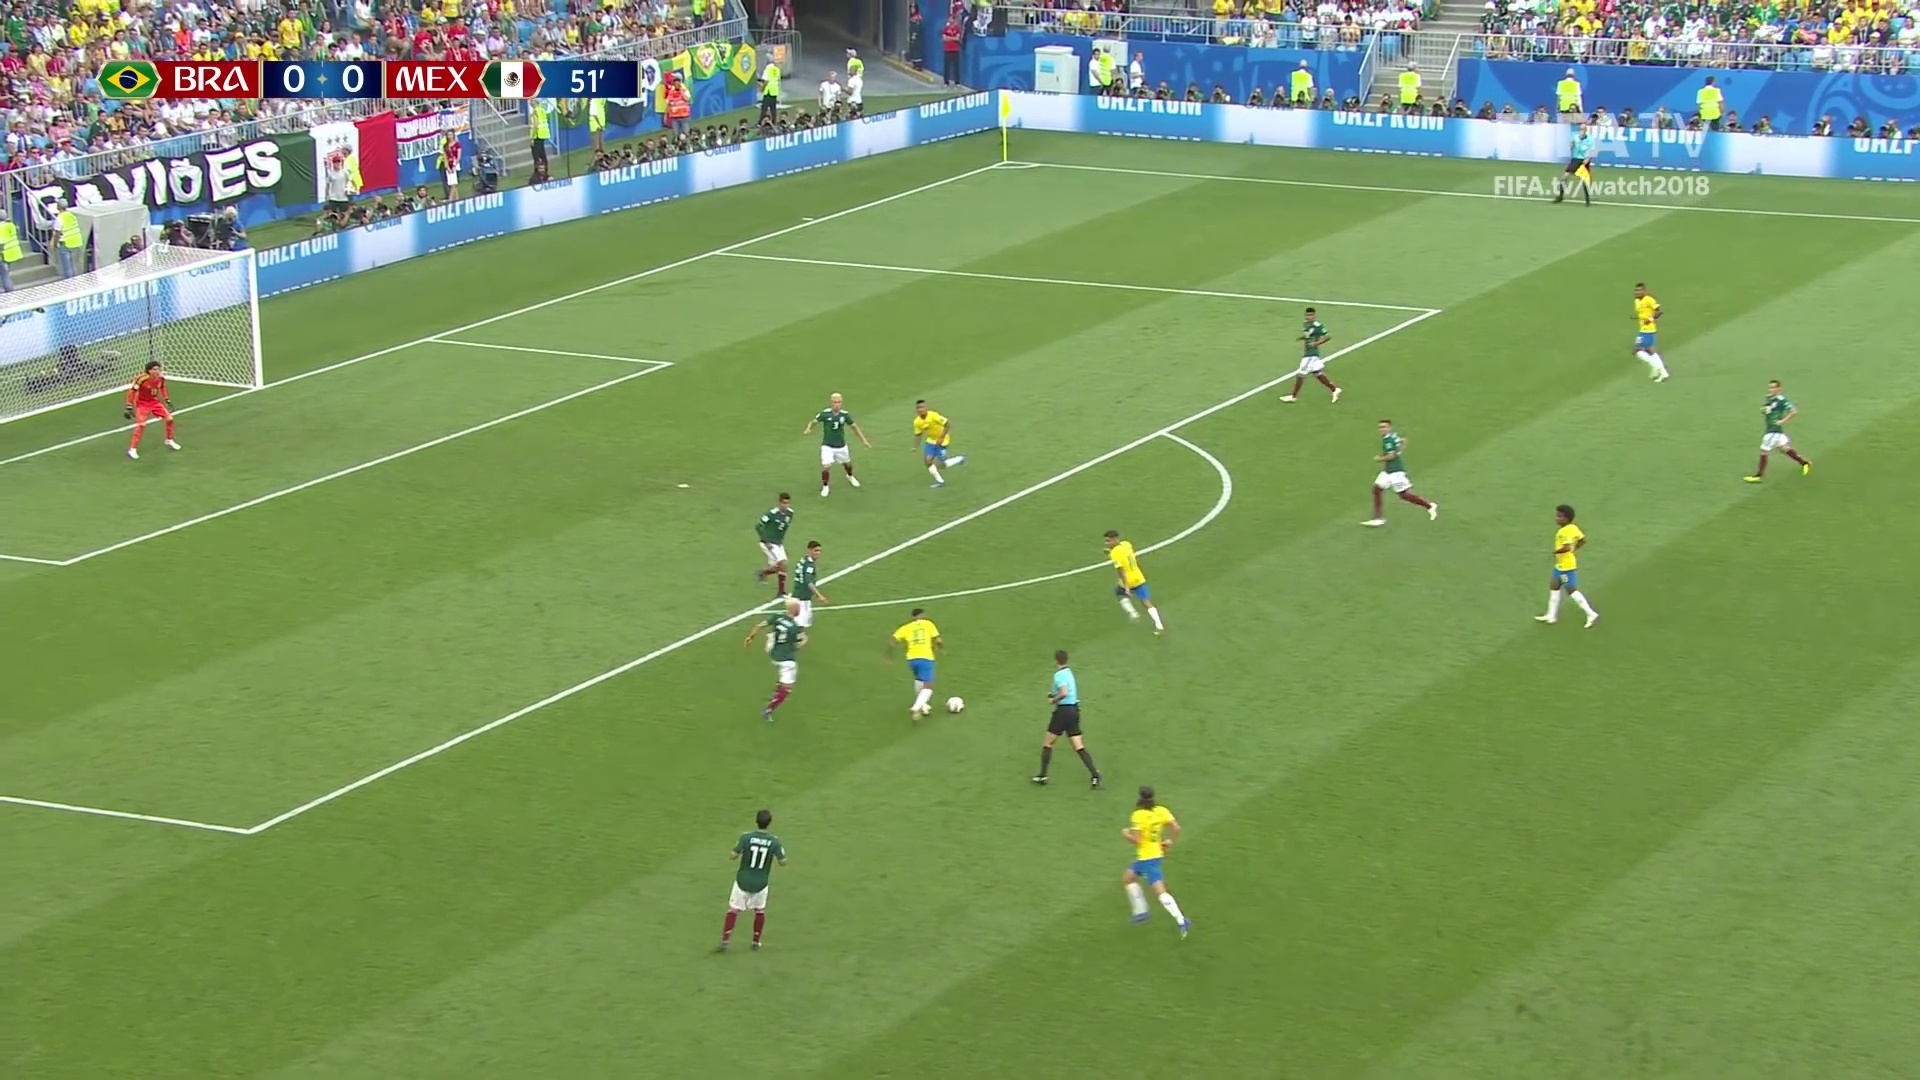person: (1122, 785, 1190, 936), (722, 813, 783, 949), (1366, 419, 1437, 529), (1538, 505, 1598, 628), (1746, 382, 1813, 486), (806, 392, 867, 498), (1102, 531, 1165, 633), (756, 601, 808, 718), (892, 611, 945, 722), (1282, 308, 1341, 405), (125, 362, 180, 459), (911, 399, 968, 487), (1629, 286, 1669, 384), (756, 494, 792, 600), (792, 543, 826, 636)
